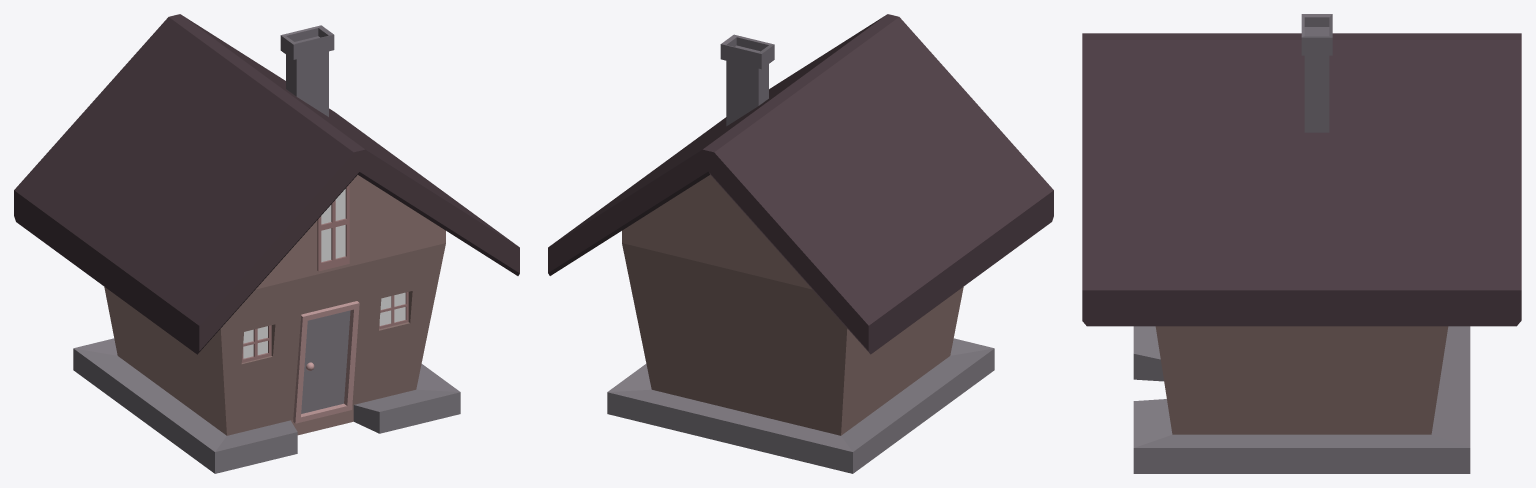
The model's file is HOUSE CHIMNEY (ORANGE).fbx.
3 renders of one model, left to right at view 1: azimuth 30°, elevation 25°; view 2: azimuth 150°, elevation 25°; view 3: azimuth 270°, elevation 25°, orthographic. The views are drawn at different scales.
Visible parts, largest first — view 1: Roof, House, Door, Front Windows.002, Front Windows.001, Front Windows; view 2: Roof, House, Front Windows.002; view 3: Roof, House, Front Windows.002.
Part boxes in pixels (x1,y1,x2,y2): Roof: [14, 14, 519, 354]; House: [73, 175, 460, 473]; Door: [293, 301, 359, 423]; Front Windows.002: [280, 25, 334, 116]; Front Windows.001: [317, 184, 349, 271]; Front Windows: [241, 292, 408, 362]; Roof: [548, 14, 1053, 354]; House: [607, 174, 994, 473]; Front Windows.002: [720, 34, 774, 126]; Roof: [1082, 33, 1521, 326]; House: [1133, 326, 1470, 473]; Front Windows.002: [1301, 14, 1332, 132].
Size of the model in its own units: 1130 by 1148 by 1130.
